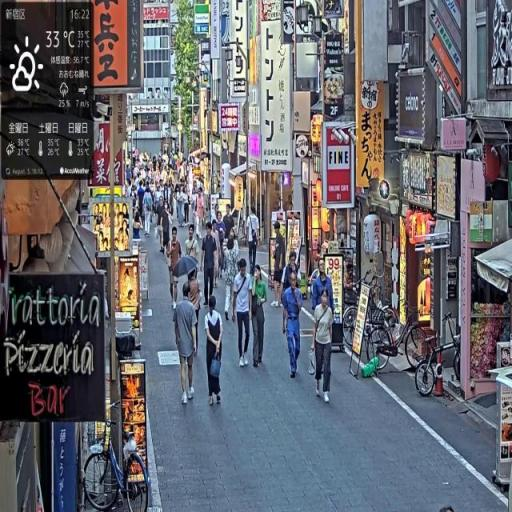person: (175, 282, 200, 407), (282, 270, 306, 386), (313, 289, 336, 403), (232, 257, 255, 369), (249, 262, 270, 371), (206, 294, 224, 409), (201, 220, 220, 310), (167, 227, 184, 309), (247, 206, 262, 277)
